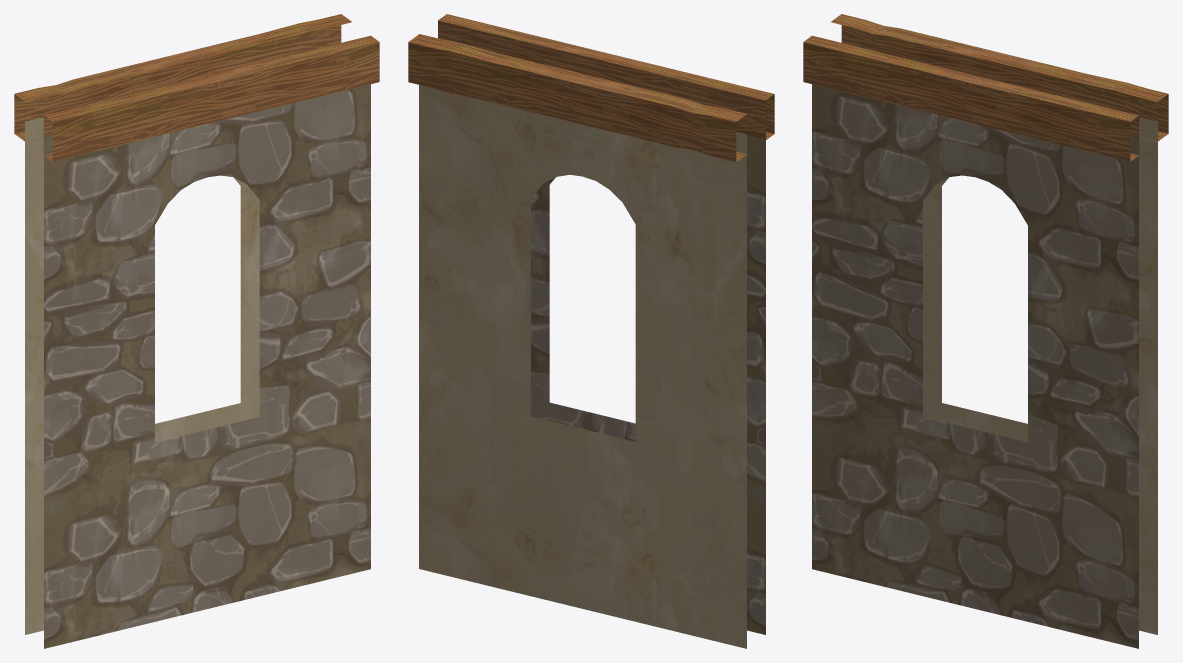
Rendered from Wall_UnevenBrick_Window_Thin_Round.gltf.
3 renders of one model, left to right at view 1: azimuth 30°, elevation 25°; view 2: azimuth 150°, elevation 25°; view 3: azimuth 330°, elevation 25°, orthographic.
Parts seen in each view (by area): view 1: Wall_UnevenBrick_Window_Thin_Round; view 2: Wall_UnevenBrick_Window_Thin_Round; view 3: Wall_UnevenBrick_Window_Thin_Round.
Part boxes in pixels (x1=…): Wall_UnevenBrick_Window_Thin_Round: x1=14, y1=14, x2=379, y2=648; Wall_UnevenBrick_Window_Thin_Round: x1=408, y1=14, x2=774, y2=648; Wall_UnevenBrick_Window_Thin_Round: x1=803, y1=14, x2=1168, y2=648.
Size of the model in its own units: 2 by 3.12 by 0.4065.
Materials: 3 (3 with a texture image).
